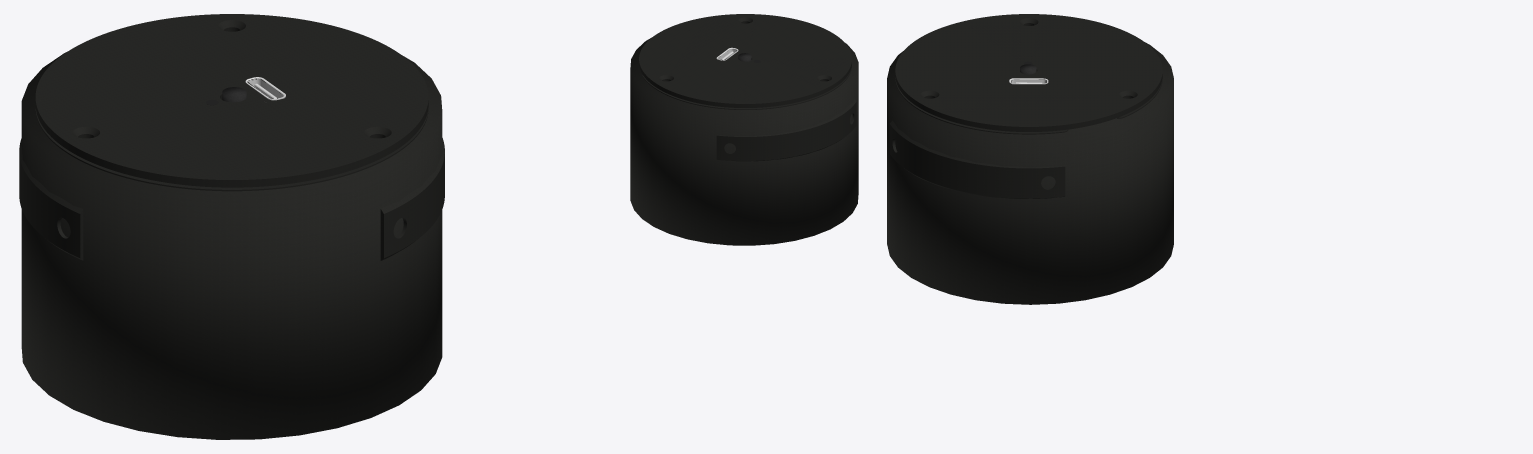
Rendered from Vib_simpleconfig_op2.glb.
3 views of the same model, side by side, from view 1: azimuth 30°, elevation 25°; view 2: azimuth 150°, elevation 25°; view 3: azimuth 270°, elevation 25° (orthographic). The views are drawn at different scales.
Parts seen in each view (by area): view 1: Asset3DLoader.sceneRoot; view 2: Asset3DLoader.sceneRoot; view 3: Asset3DLoader.sceneRoot.
Boxes of the visible parts, x1=… form: Asset3DLoader.sceneRoot: x1=19, y1=14, x2=444, y2=439; Asset3DLoader.sceneRoot: x1=630, y1=14, x2=858, y2=245; Asset3DLoader.sceneRoot: x1=887, y1=14, x2=1173, y2=304.
Bounding box in the file's own units: 66.72 × 82.82 × 146.
Materials: 5 (4 with a texture image).
